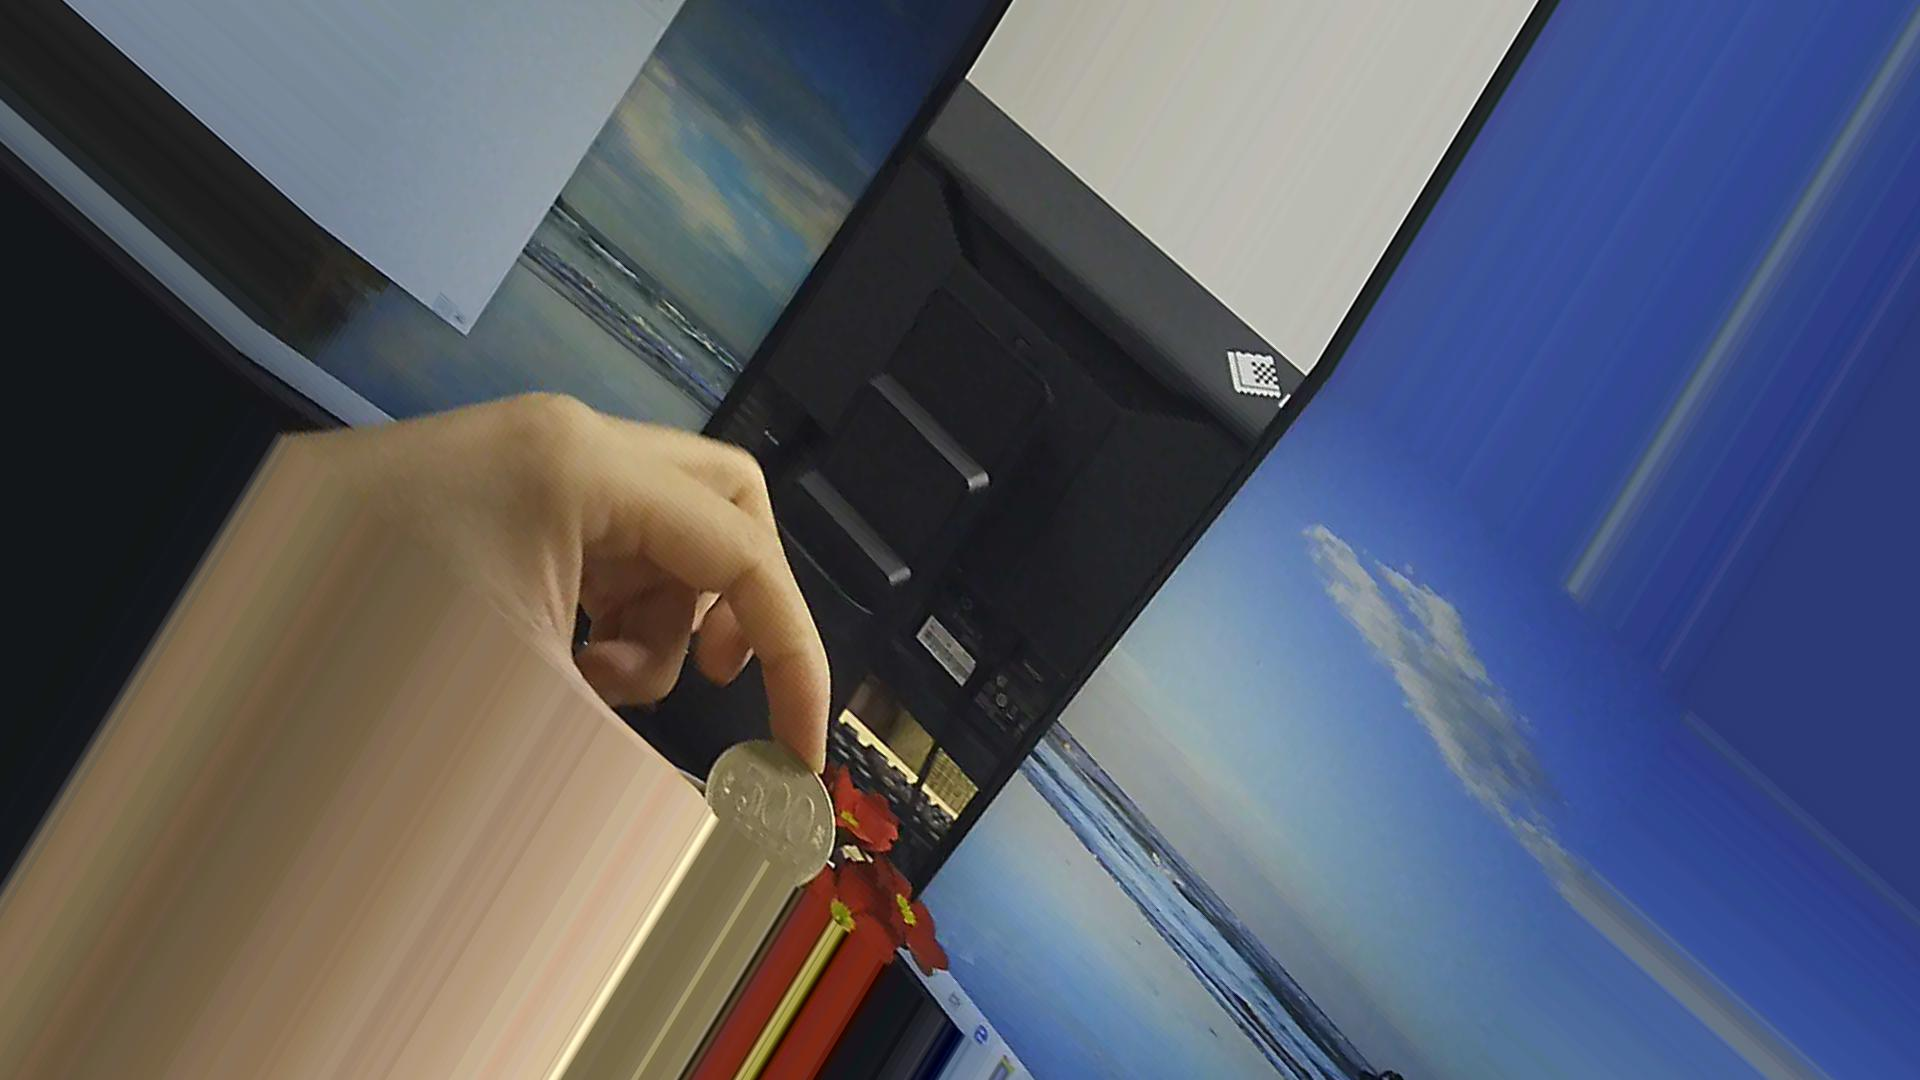500 Yen: (691, 728, 839, 880)
